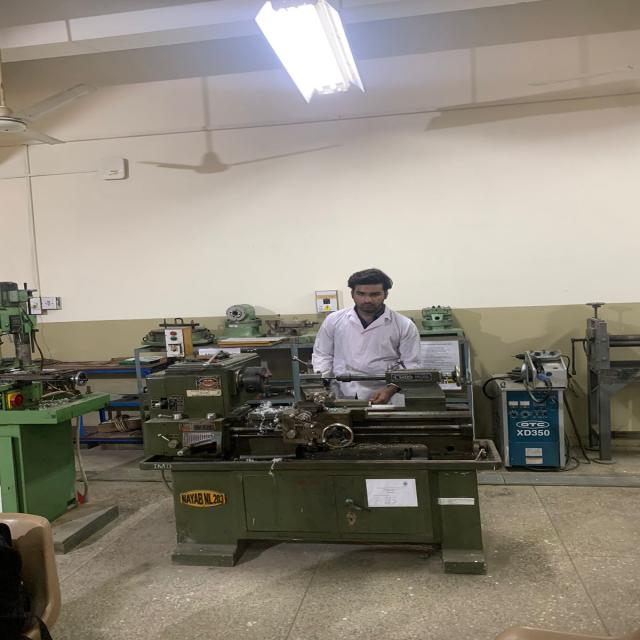labcoat: (310, 304, 428, 417)
